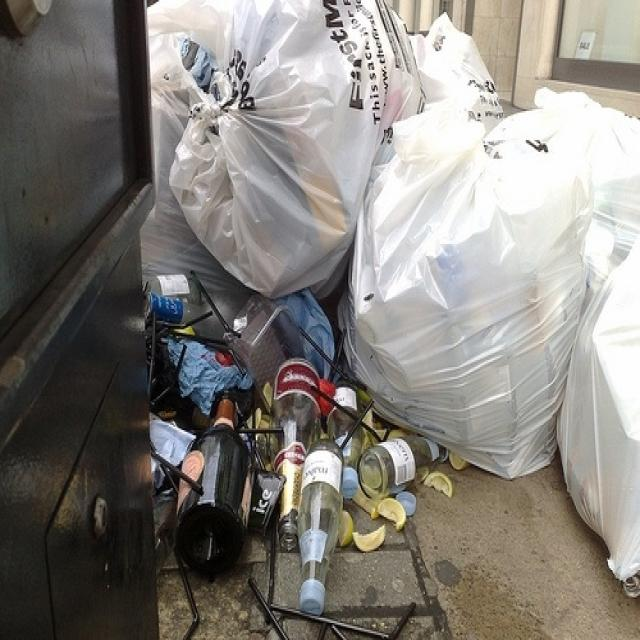Glass: (158, 313, 410, 639)
